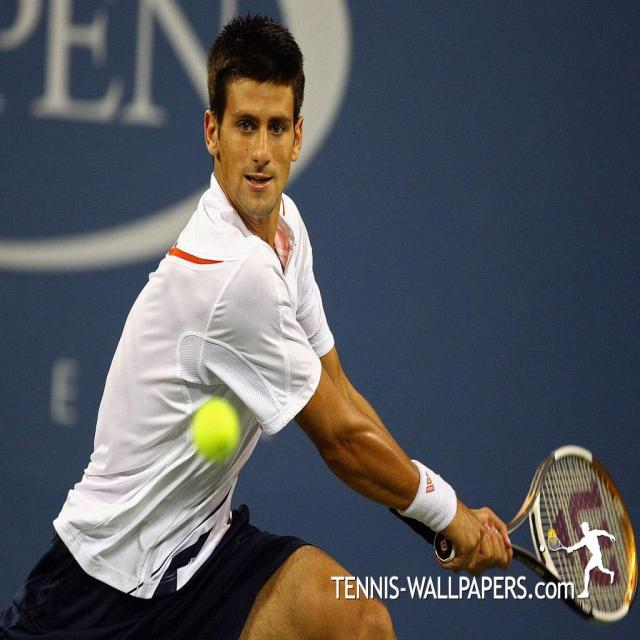Face: (215, 74, 295, 226)
